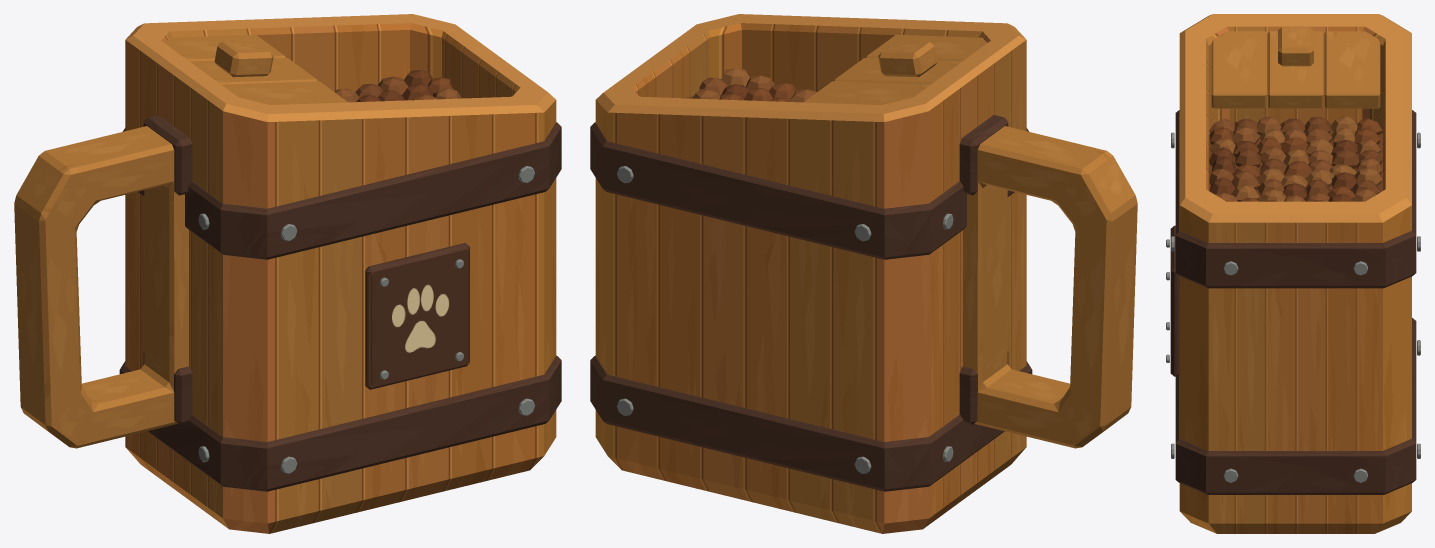
Rendered from PM_FeedCanister_V3.fbx.
3 renders of one model, left to right at view 1: azimuth 30°, elevation 25°; view 2: azimuth 150°, elevation 25°; view 3: azimuth 270°, elevation 25°, orthographic. The views are drawn at different scales.
Parts seen in each view (by area): view 1: Mush_FeedCanister_C_v3; view 2: Mush_FeedCanister_C_v3; view 3: Mush_FeedCanister_C_v3.
Part boxes in pixels (x1,y1,x2,y2): Mush_FeedCanister_C_v3: (14,14,561,533); Mush_FeedCanister_C_v3: (590,14,1137,533); Mush_FeedCanister_C_v3: (1166,14,1420,533).
Size of the model in its own units: 36.43 by 31.21 by 18.43.
Materials: 1 (1 with a texture image).
